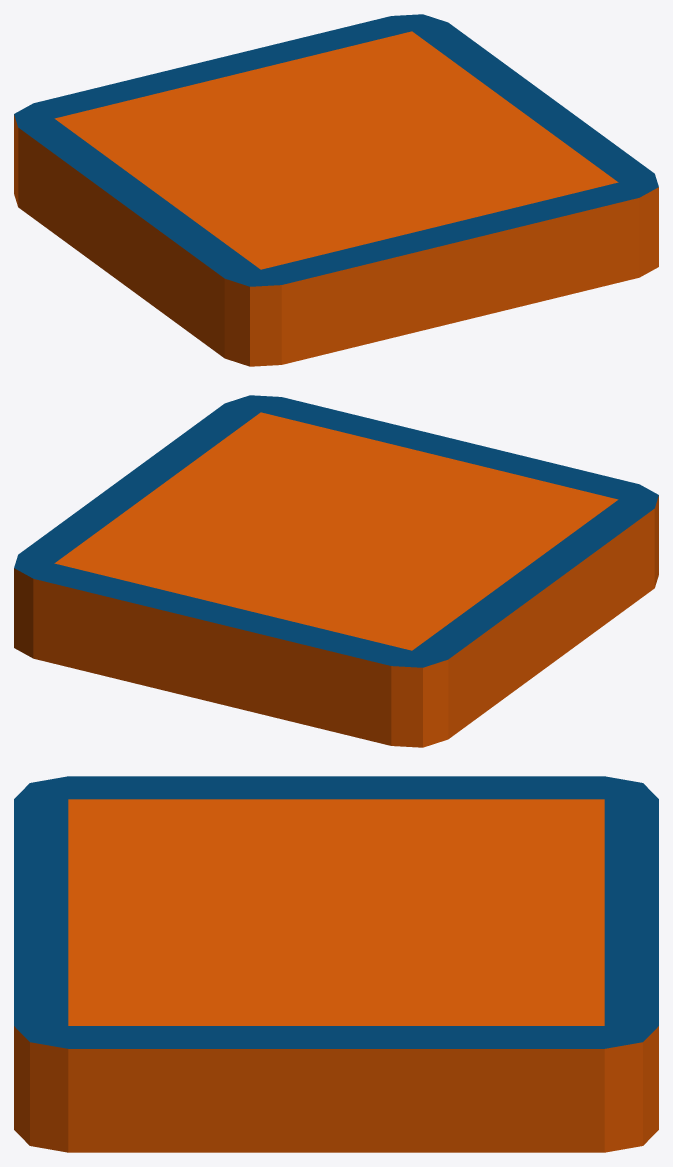
The model's file is plattform.fbx.
3 renders of one model, top to bottom at view 1: azimuth 30°, elevation 25°; view 2: azimuth 150°, elevation 25°; view 3: azimuth 270°, elevation 25°, orthographic. The views are drawn at different scales.
Parts seen in each view (by area): view 1: Cube; view 2: Cube; view 3: Cube.
Boxes of the visible parts, x1,y1,x2,y2 form: Cube: (14,14,658,366); Cube: (14,395,658,747); Cube: (14,776,658,1152).
Size of the model in its own units: 200 by 35.51 by 200.
